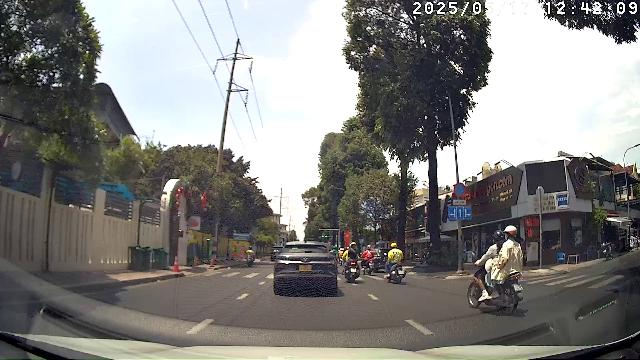131a-cam-do-xe: (454, 182, 466, 197)
